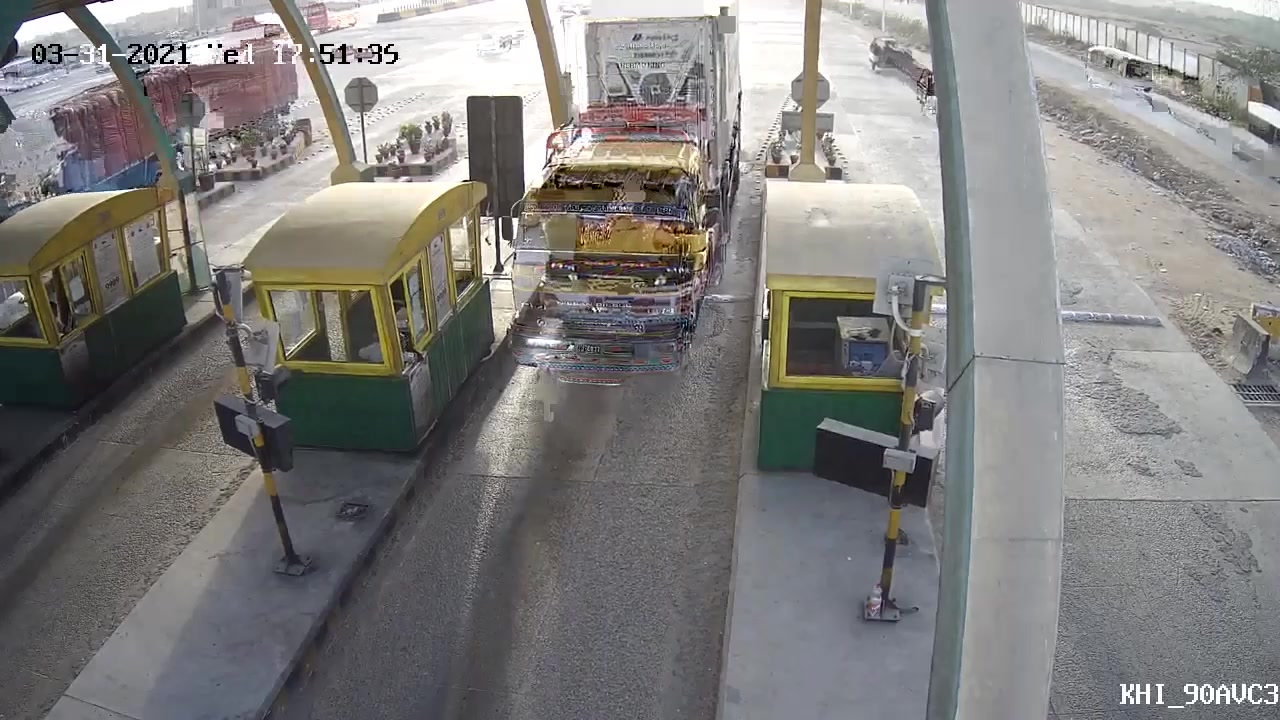F5: (534, 3, 747, 367)
